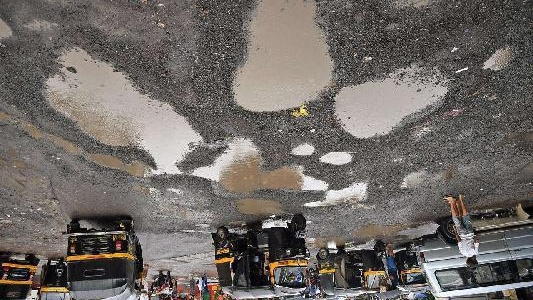pothole: (35, 46, 202, 186), (227, 0, 332, 116), (331, 64, 450, 141), (187, 136, 334, 197), (301, 182, 370, 212), (232, 195, 285, 217), (480, 45, 519, 74), (318, 151, 355, 169), (288, 144, 316, 158)
